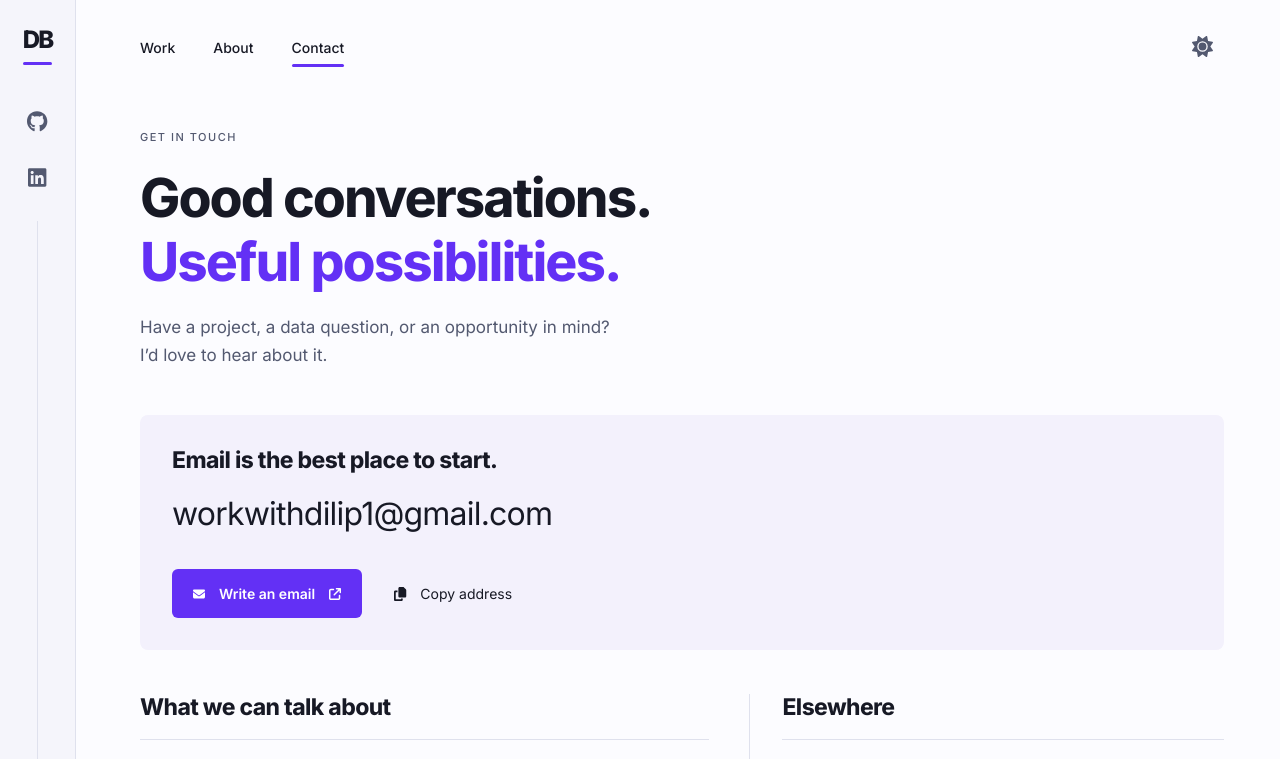
Test: handles clipboard rejection without claiming success
Click the button "Copy address" at point(453, 594), box [386, 572, 520, 616]
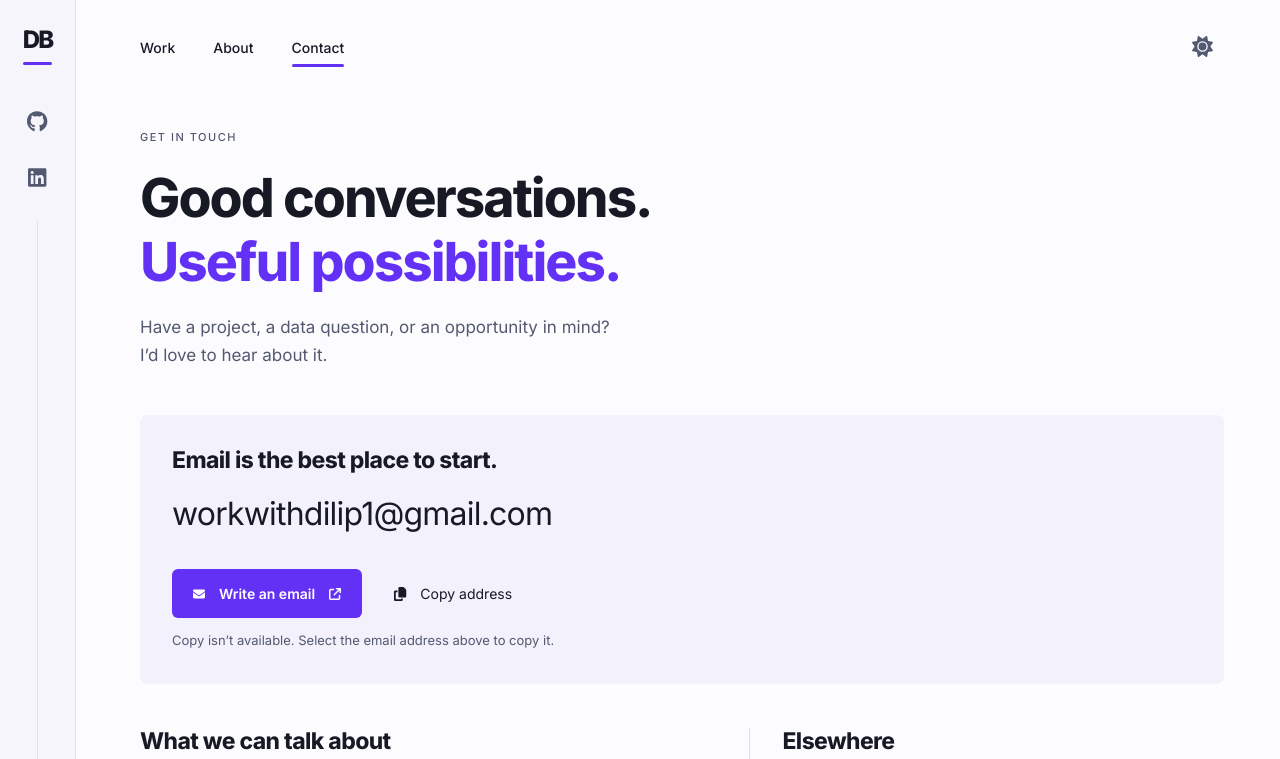
Now the message shows "Copy isn’t available", box [172, 632, 554, 648]
